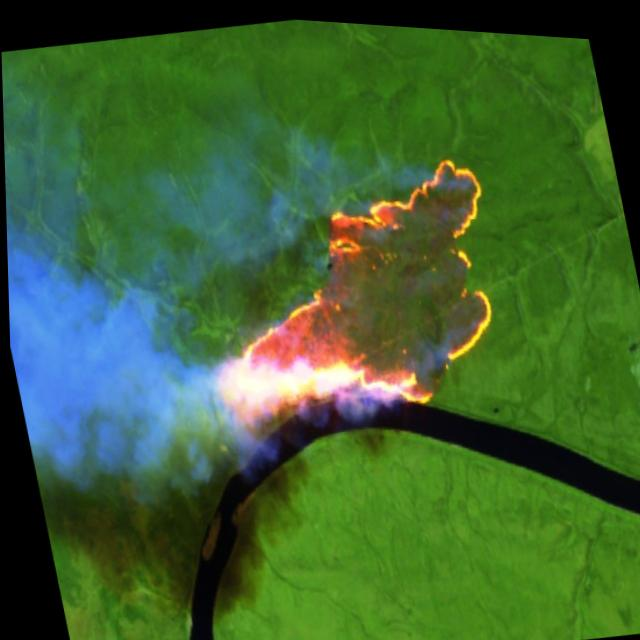fire: (156, 123, 529, 445)
